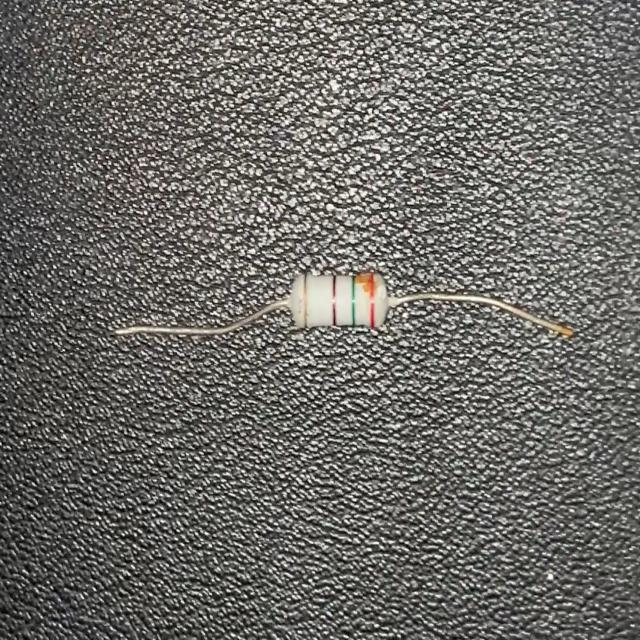burnt: (352, 272, 380, 298)
resistor: (114, 267, 574, 355)
